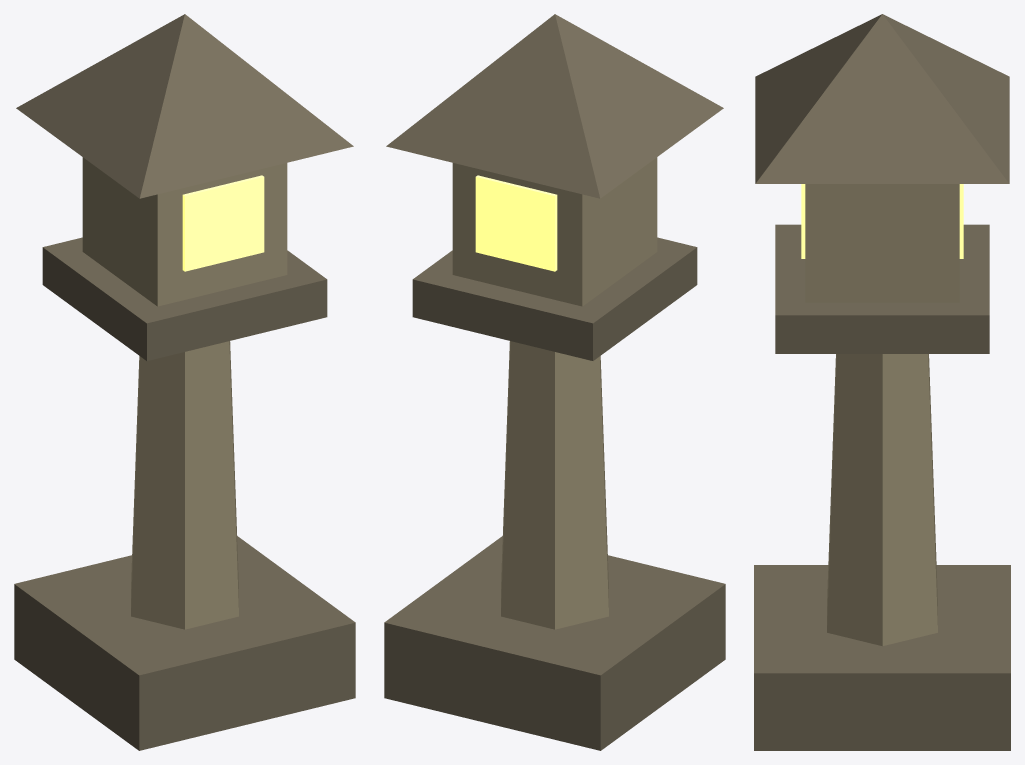
The model's file is stone_lantern.glb.
3 renders of one model, left to right at view 1: azimuth 30°, elevation 25°; view 2: azimuth 150°, elevation 25°; view 3: azimuth 270°, elevation 25°, orthographic. The views are drawn at different scales.
Visible parts, largest first — view 1: stone_temple_dark-col, stone_temple-col, glow; view 2: stone_temple_dark-col, stone_temple-col, glow; view 3: stone_temple_dark-col, stone_temple-col, glow.
Boxes of the visible parts, x1,y1,x2,y2 form: stone_temple_dark-col: (14, 14, 355, 750); stone_temple-col: (82, 157, 287, 629); glow: (182, 175, 264, 271); stone_temple_dark-col: (384, 14, 725, 750); stone_temple-col: (452, 157, 657, 629); glow: (475, 175, 557, 271); stone_temple_dark-col: (754, 14, 1010, 750); stone_temple-col: (805, 184, 959, 646); glow: (801, 184, 963, 258).
Bounding box in the file's own units: 0.6 × 1.76 × 0.6.
